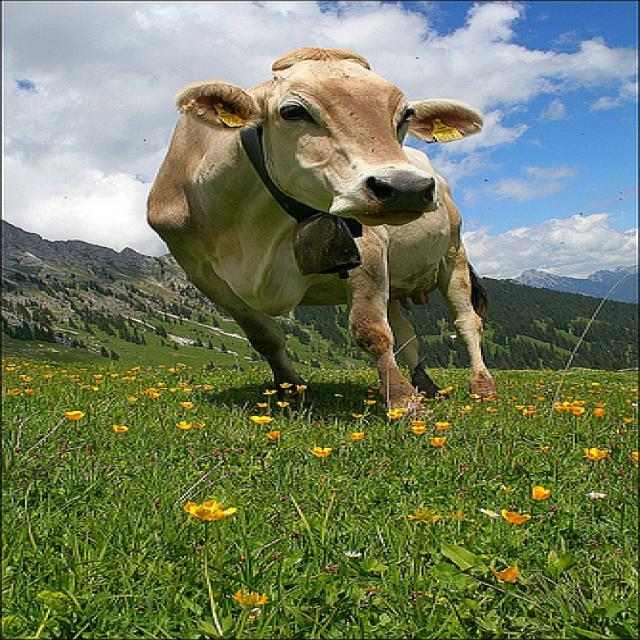cow: (146, 46, 498, 410)
